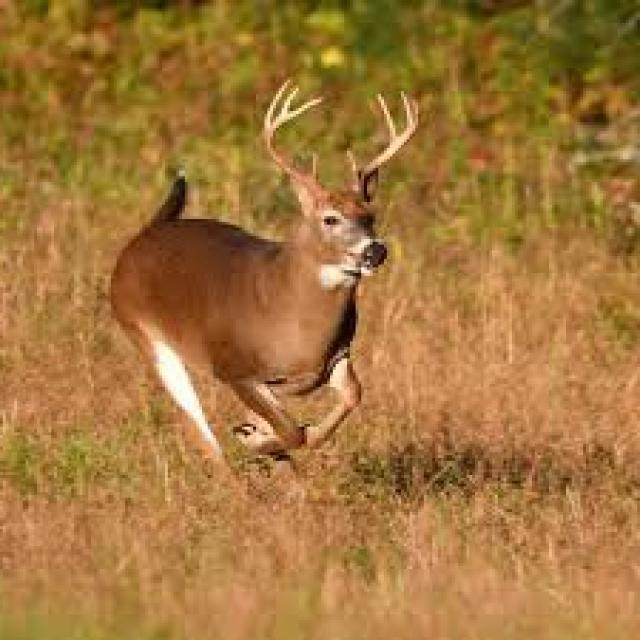deer: (111, 82, 418, 458)
